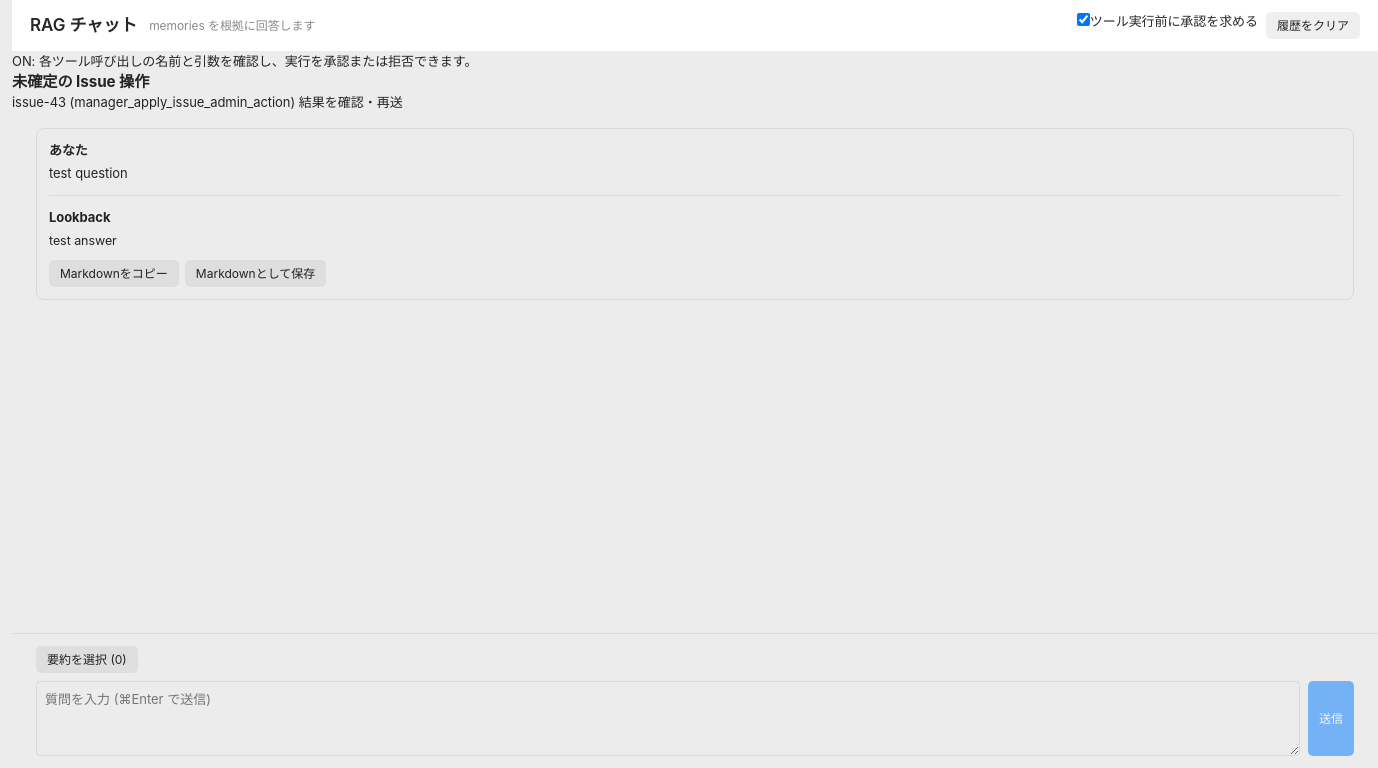
Test case: pending Issue operation recovery › keeps an uncertain operation visible when status recovery fails
Click the button "結果を確認・再送".
click(351, 103)  # box [299,93,403,112]
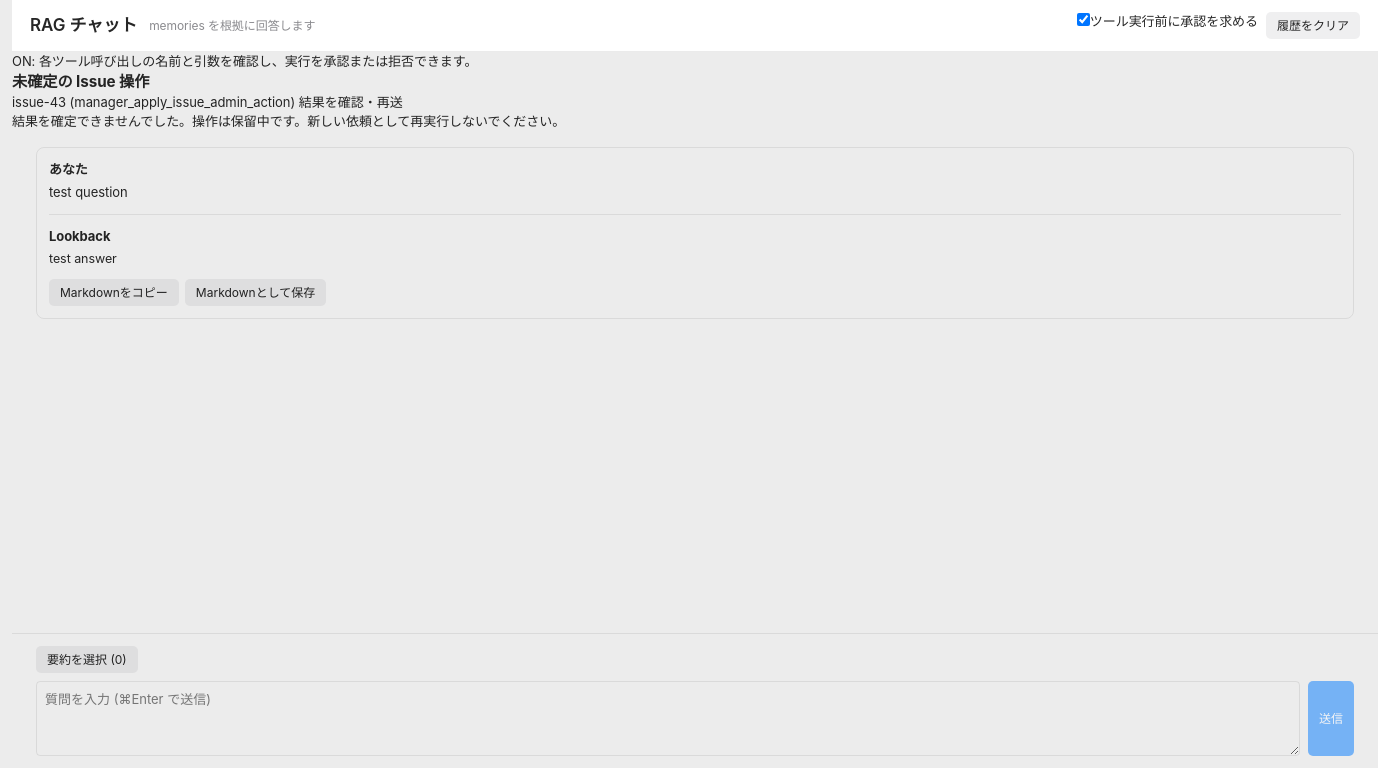
Expected: the text "issue-43 (manager_apply_issue_admin_action)" is shown, [12,94,299,110]
Expected: the text "結果を確定できませんでした。操作は保留中です。新しい依頼として再実行しないでください。" is shown, [12,113,565,129]
